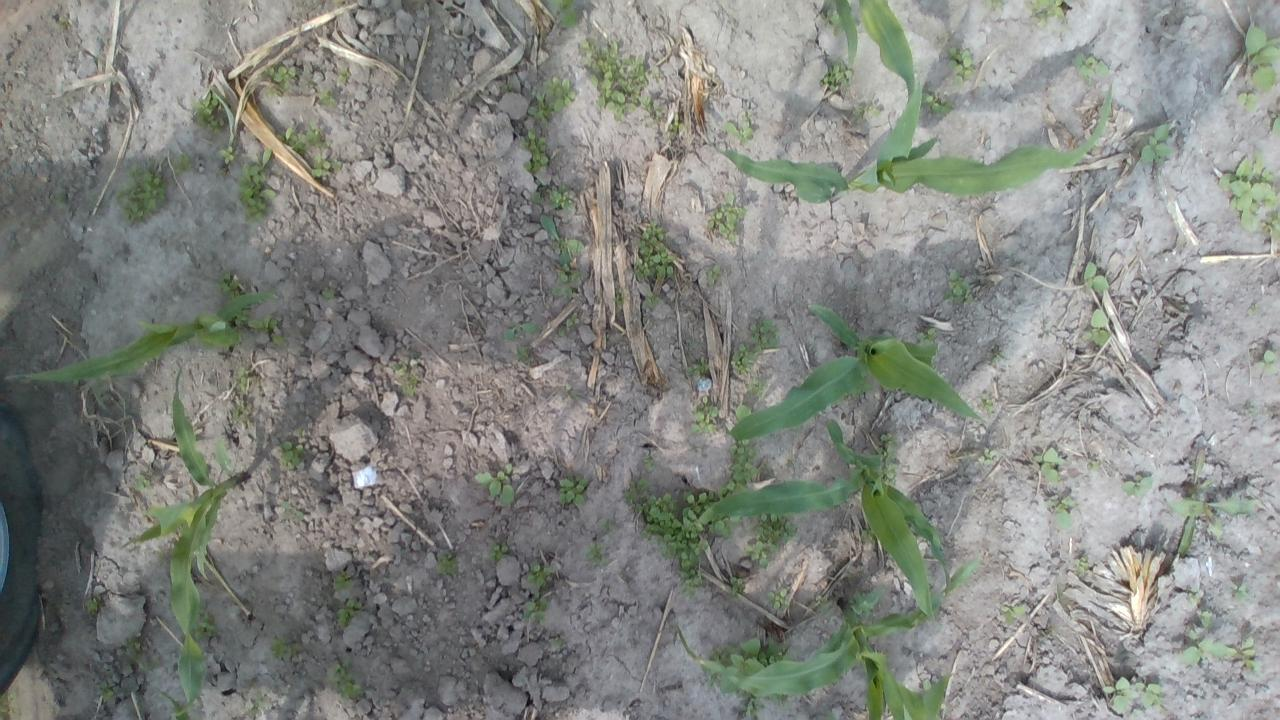Maize: (712, 1, 1114, 206), (694, 420, 954, 620), (672, 556, 981, 718), (130, 367, 250, 719), (730, 301, 986, 446), (3, 290, 280, 388), (826, 1, 862, 66)
Weeds: (630, 486, 720, 584), (1167, 492, 1260, 555), (582, 40, 654, 119), (1220, 154, 1280, 241), (524, 74, 574, 172), (720, 411, 756, 522), (542, 218, 584, 296), (283, 124, 337, 182), (1182, 637, 1255, 677), (121, 162, 164, 228), (632, 222, 677, 282), (240, 150, 278, 220), (749, 508, 792, 568), (1104, 676, 1166, 716), (734, 321, 776, 376), (1244, 26, 1280, 90), (472, 464, 518, 508), (701, 196, 744, 243), (1139, 123, 1172, 166), (527, 566, 553, 616), (506, 323, 538, 358), (240, 316, 280, 343), (1036, 449, 1064, 485), (193, 93, 220, 128), (546, 3, 578, 32), (1076, 54, 1108, 82), (1052, 496, 1078, 530), (330, 668, 360, 697), (394, 366, 422, 397), (950, 48, 976, 80), (554, 477, 584, 504), (264, 66, 296, 90), (823, 69, 852, 95), (1085, 262, 1108, 293), (884, 431, 897, 485), (1090, 310, 1110, 344), (951, 270, 974, 299), (1003, 602, 1030, 626), (1032, 1, 1066, 18), (281, 442, 305, 466), (1188, 612, 1212, 636), (338, 601, 360, 627), (550, 189, 574, 211), (694, 409, 718, 431), (1125, 477, 1154, 495), (724, 124, 752, 142), (222, 275, 246, 295), (925, 96, 948, 116), (272, 640, 294, 658), (855, 105, 882, 118), (768, 592, 788, 609), (436, 558, 454, 576), (689, 361, 710, 376), (590, 545, 607, 562), (1236, 94, 1256, 108), (750, 378, 765, 396), (490, 542, 507, 557), (319, 89, 336, 104), (602, 518, 617, 535), (731, 577, 745, 595), (709, 266, 722, 284), (84, 598, 100, 612), (1236, 584, 1250, 600), (1264, 350, 1276, 368), (334, 576, 351, 588), (134, 474, 146, 488), (324, 288, 334, 300), (1272, 119, 1280, 132)
